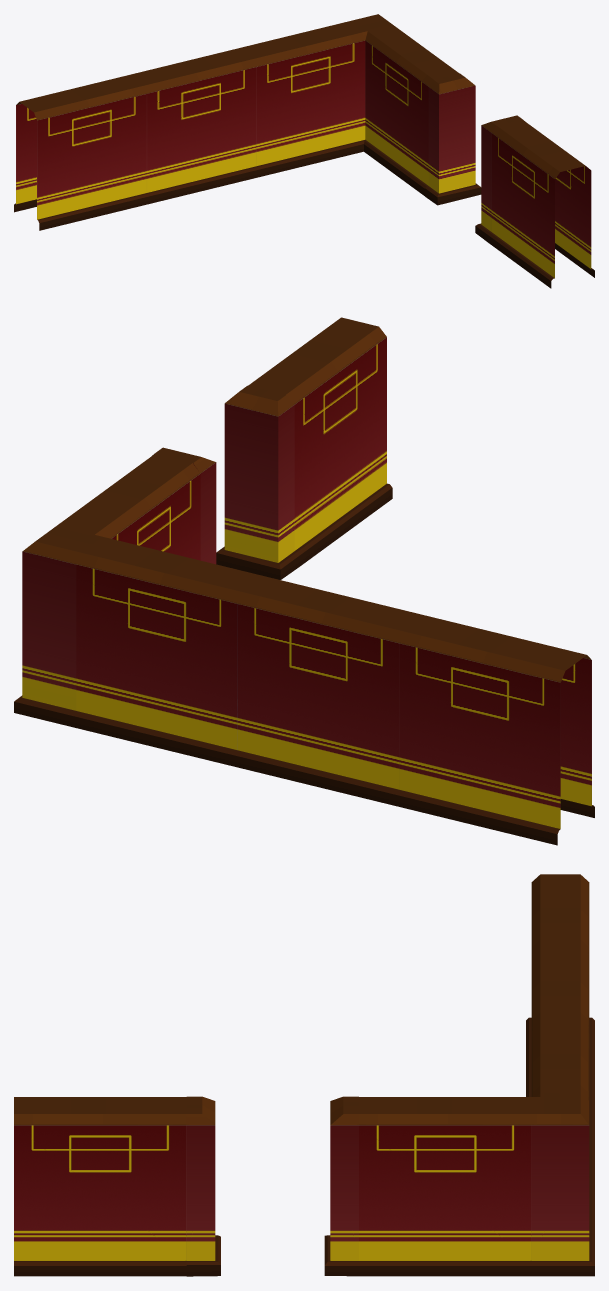
File: s1_LibraryWalls_v1.fbx
The picture shows the model from 3 angles, top to bottom: view 1: azimuth 30°, elevation 25°; view 2: azimuth 150°, elevation 25°; view 3: azimuth 270°, elevation 25°; orthographic projection. The views are drawn at different scales.
Visible parts, largest first — view 1: s1_LibraryWalls_v1; view 2: s1_LibraryWalls_v1; view 3: s1_LibraryWalls_v1.
Boxes of the visible parts, x1,y1,x2,y2 form: s1_LibraryWalls_v1: (14,14,594,288); s1_LibraryWalls_v1: (14,317,594,845); s1_LibraryWalls_v1: (14,874,594,1276).
Size of the model in its own units: 1010 by 300 by 1010.
